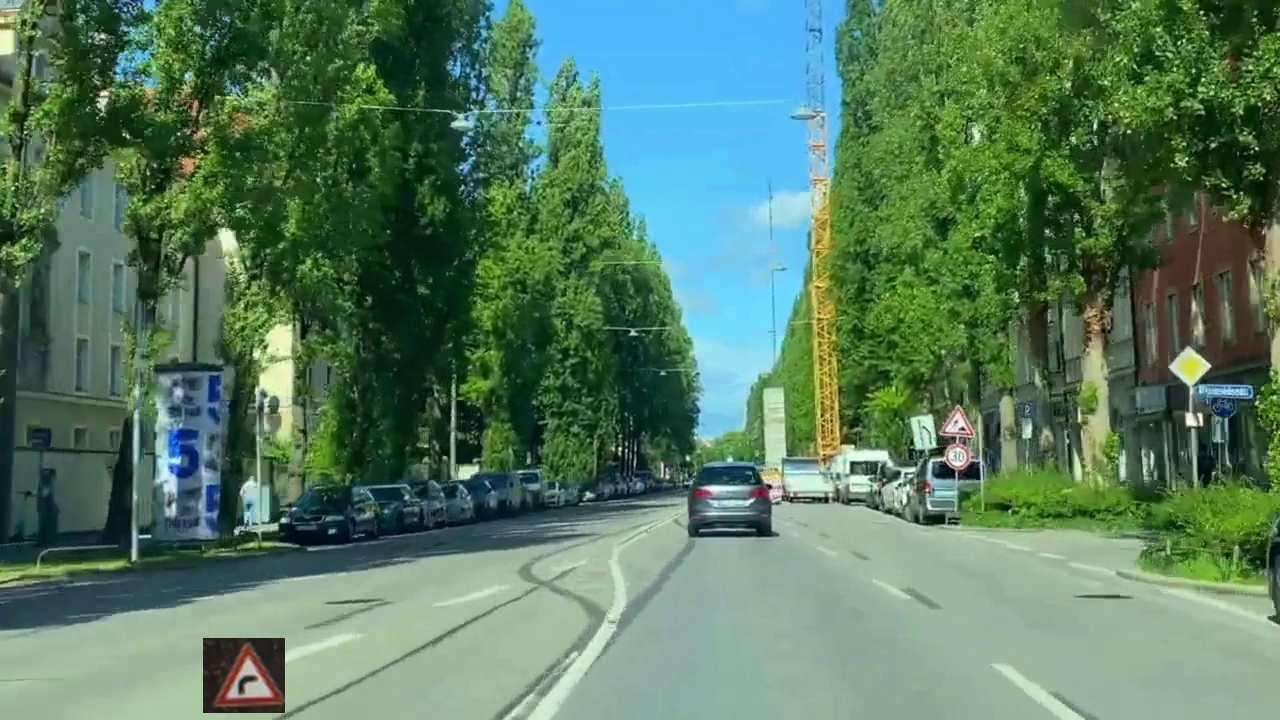Curve right: (203, 638, 285, 713)
